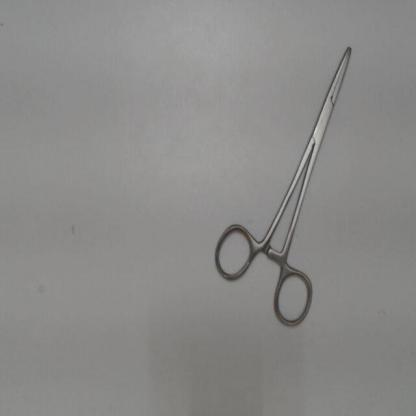Mayo Needle Holder: (205, 33, 362, 334)
